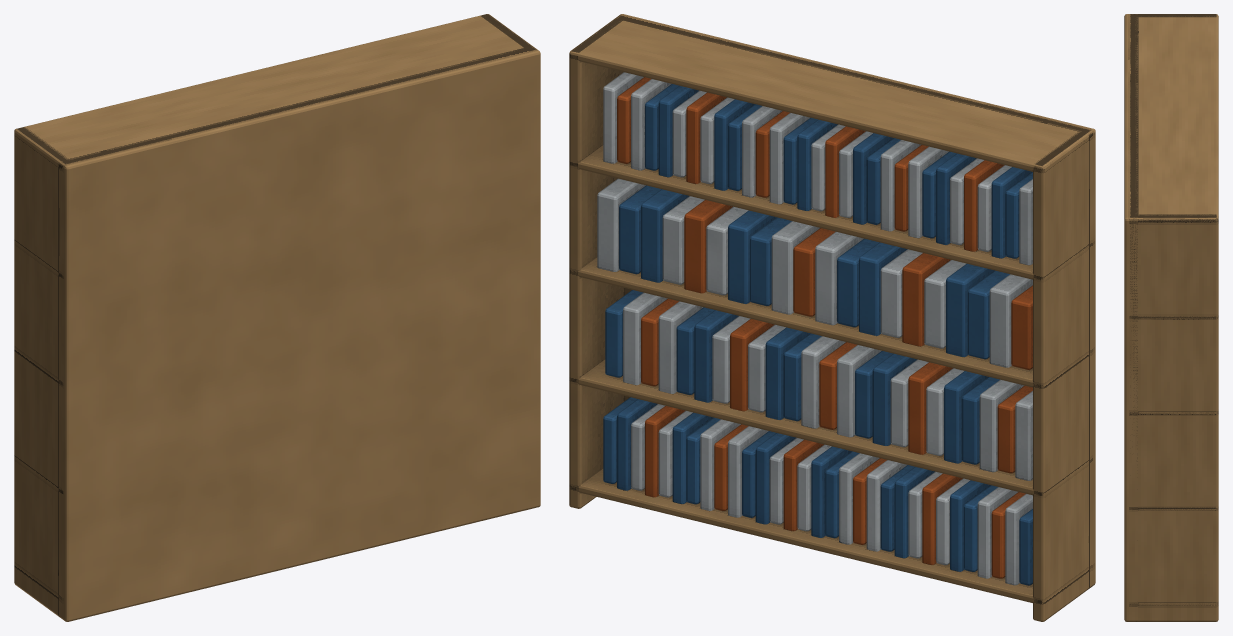
Rendered from base_bookshelf.glb.
The picture shows the model from 3 angles, left to right: view 1: azimuth 30°, elevation 25°; view 2: azimuth 150°, elevation 25°; view 3: azimuth 270°, elevation 25°; orthographic projection. The views are drawn at different scales.
Visible parts, largest first — view 1: base_bookshelf; view 2: base_bookshelf; view 3: base_bookshelf.
Part boxes in pixels (box(x1,y1,x2,y2)): base_bookshelf: box(14, 14, 540, 621); base_bookshelf: box(569, 14, 1095, 621); base_bookshelf: box(1124, 14, 1218, 621).
Size of the model in its own units: 2.4 by 2.2 by 0.465.
4 materials, 4 textured.
